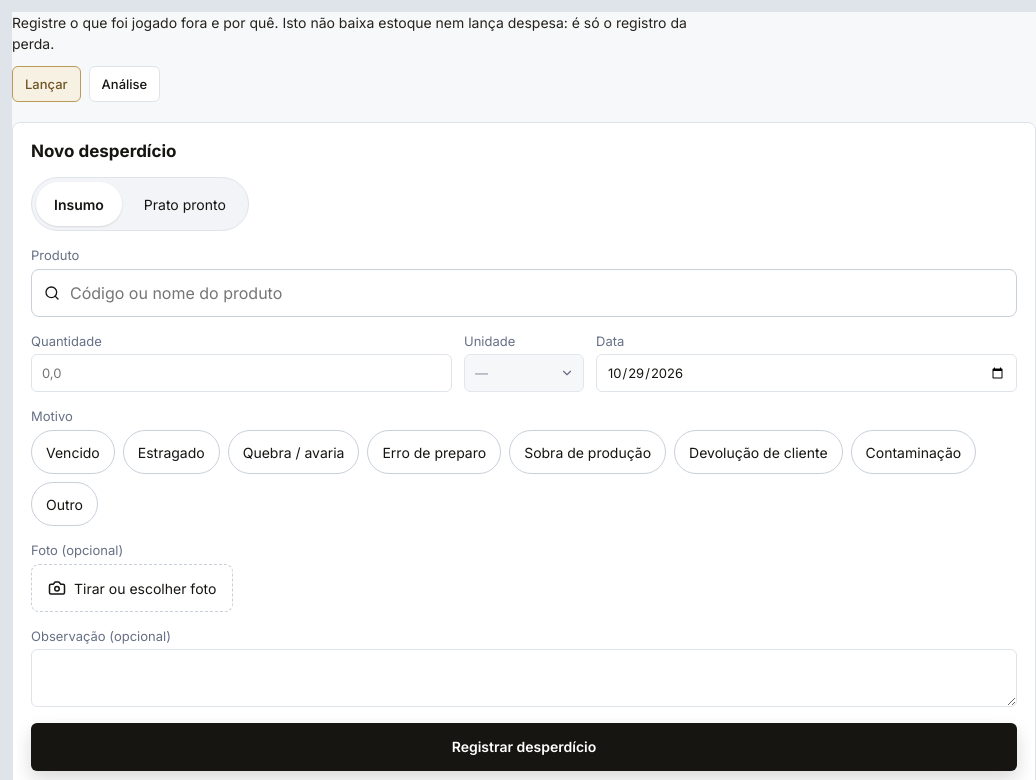
Desperdicio: validação e foco › quantidade 1.500 mostra o motivo exato
Type "1.500" into the field labelled "Quantidade".
click(242, 373); type("1.500")  # box x1=31 y1=354 x2=452 y2=392
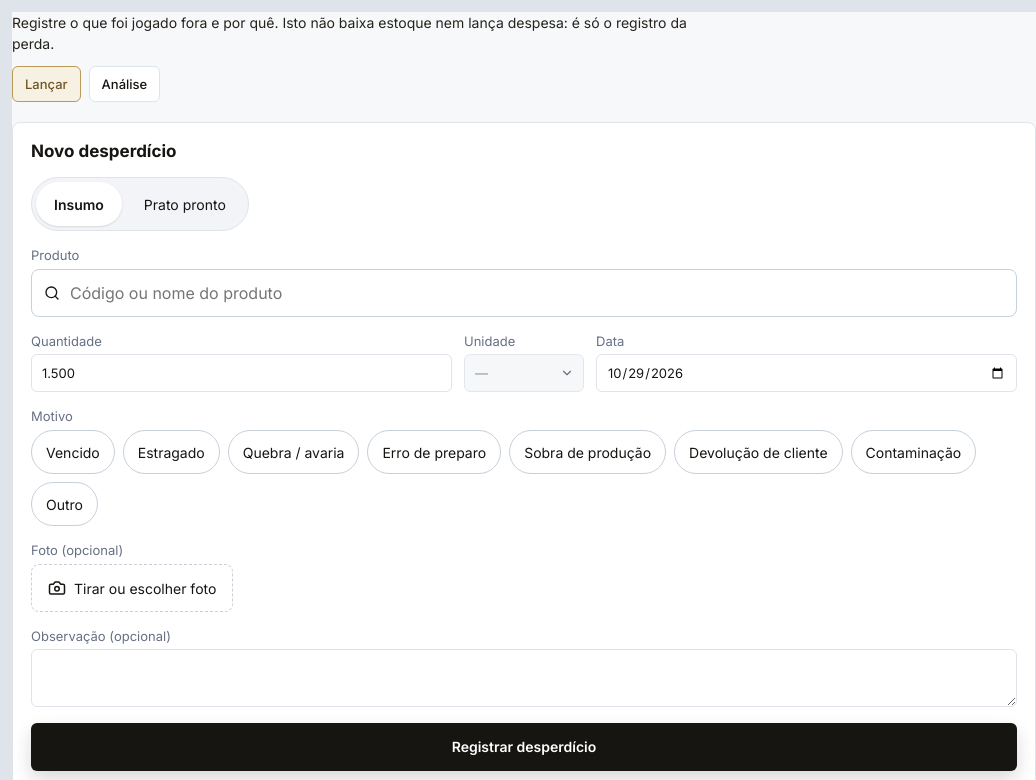
Click the button "Registrar desperdício".
click(524, 747)  # box x1=31 y1=723 x2=1017 y2=771
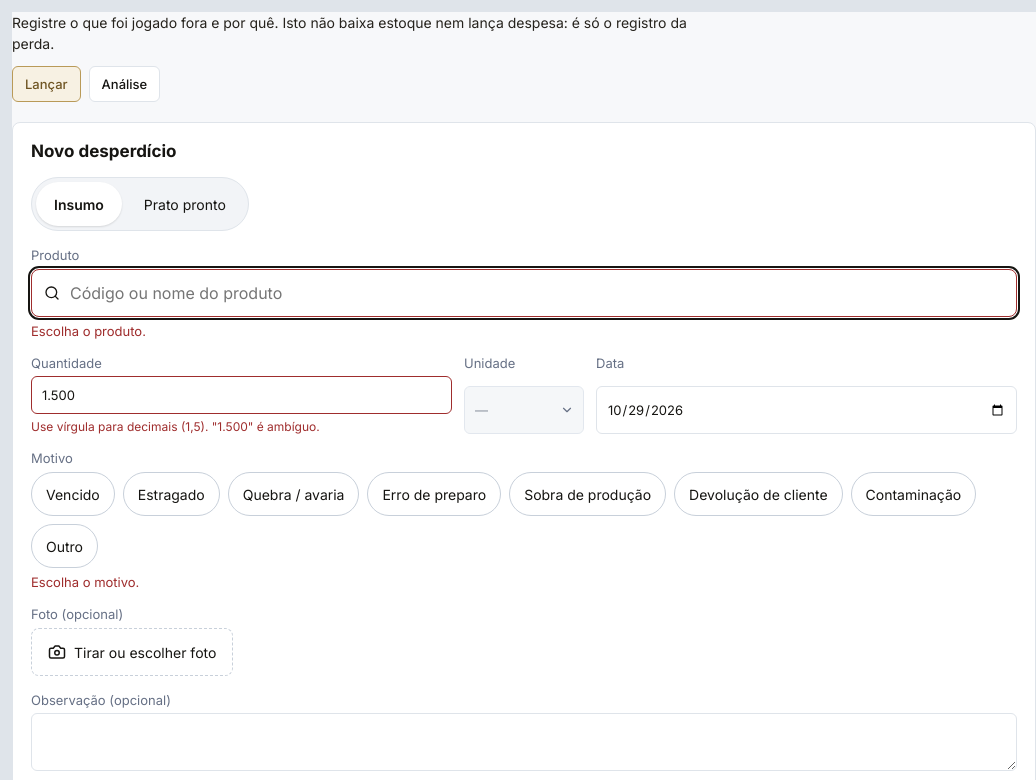
Check: the text "Use vírgula para decimais (1,5). \"1.500\" é ambíguo." is shown, box x1=31 y1=419 x2=320 y2=434
